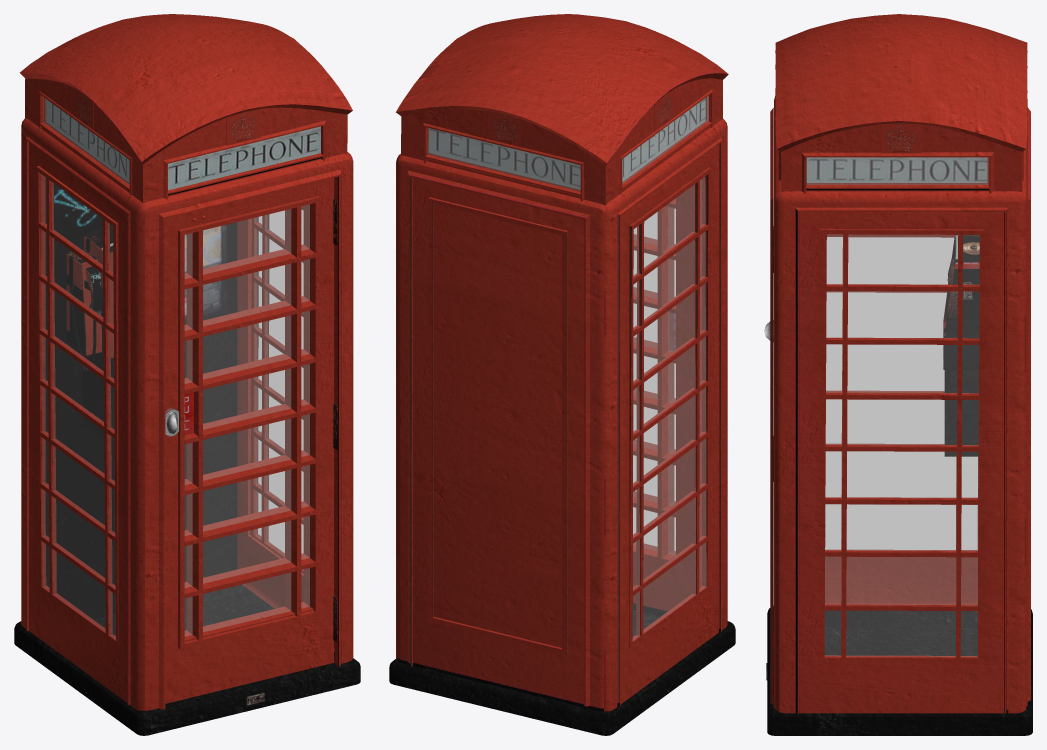
File: Telephone_Booth.fbx
3 renders of one model, left to right at view 1: azimuth 30°, elevation 25°; view 2: azimuth 150°, elevation 25°; view 3: azimuth 270°, elevation 25°, orthographic. The views are drawn at different scales.
Parts seen in each view (by area): view 1: Telephone_Booth, Booth_Door; view 2: Telephone_Booth, Booth_Door; view 3: Telephone_Booth.
Part boxes in pixels (bbox=[...]): Telephone_Booth: bbox=[14, 14, 360, 735]; Booth_Door: bbox=[165, 177, 337, 703]; Telephone_Booth: bbox=[389, 14, 735, 735]; Booth_Door: bbox=[632, 179, 701, 616]; Telephone_Booth: bbox=[766, 14, 1032, 735].
Bounding box in the file's own units: 0.9124 × 2.45 × 0.9315.
